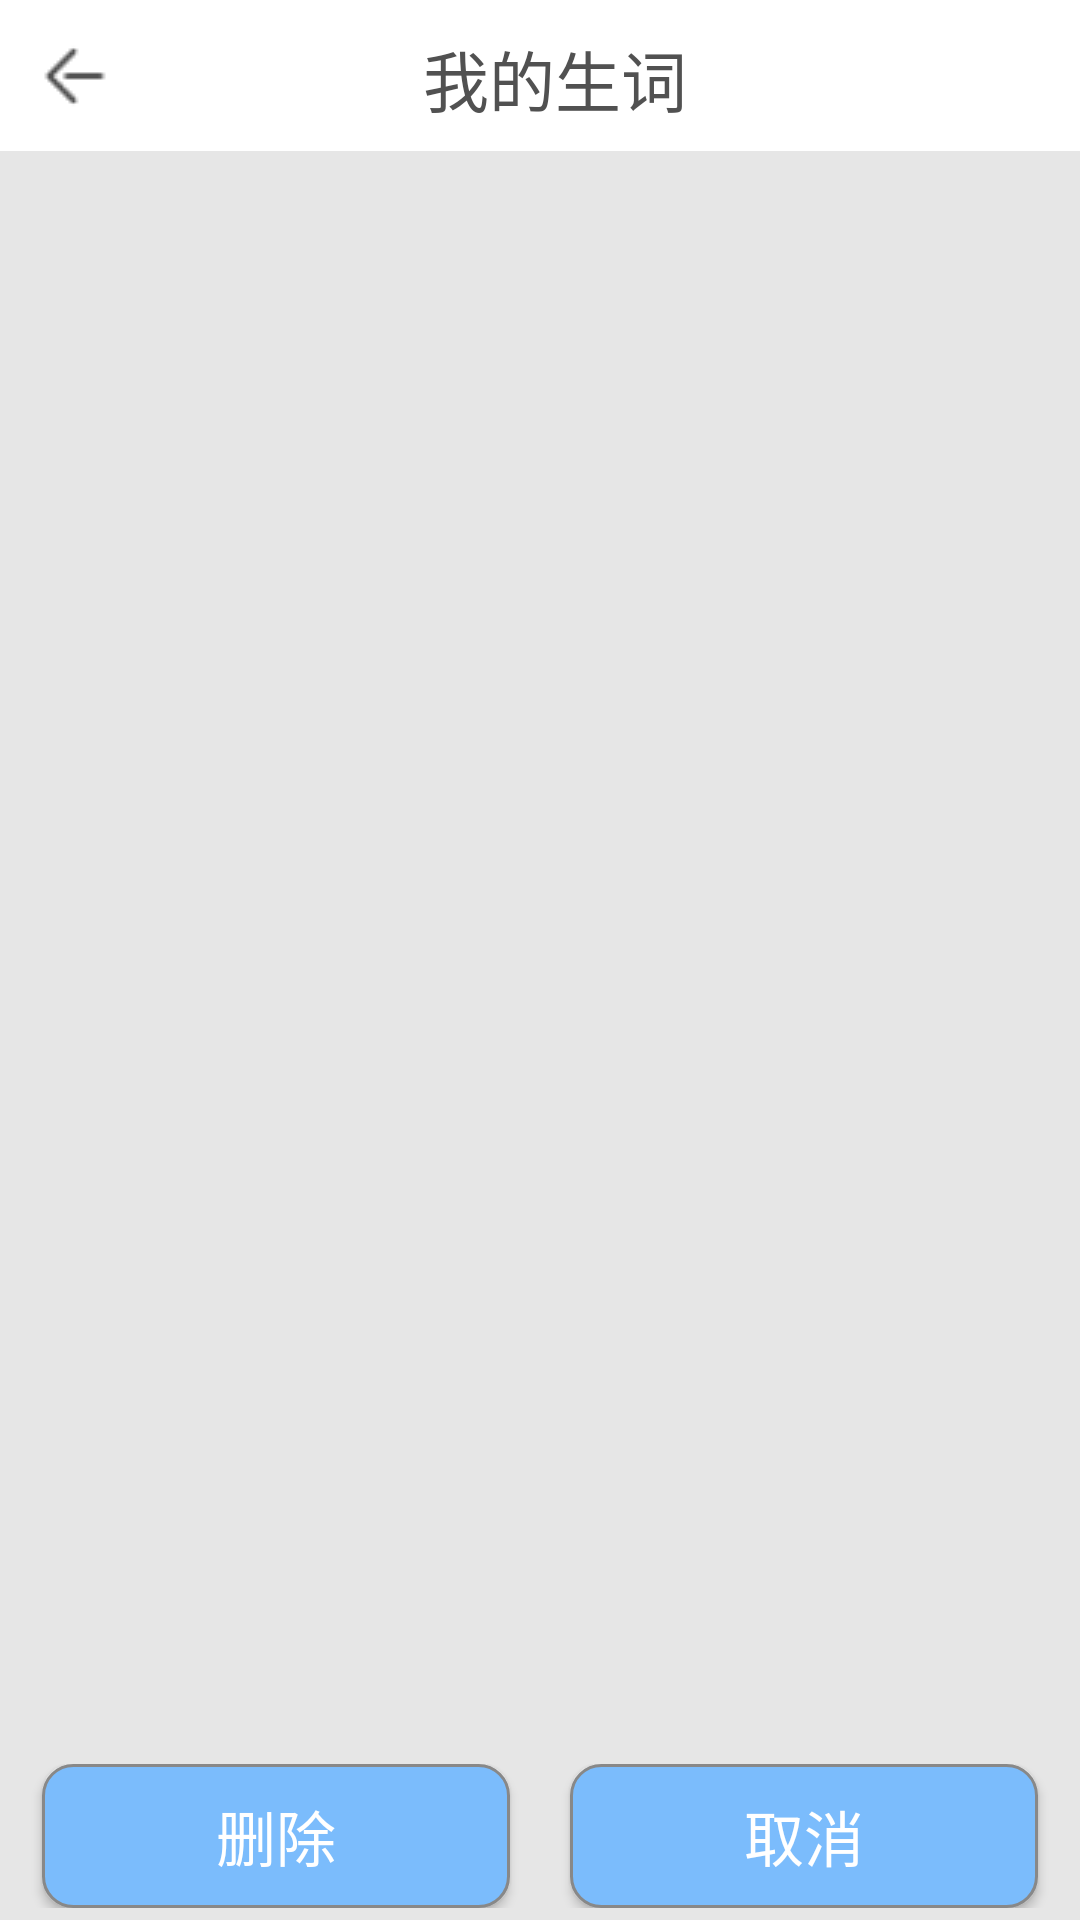

Named icons in this screenshot (1080*1920) and their centers, (x,y):
back: (75,76)
